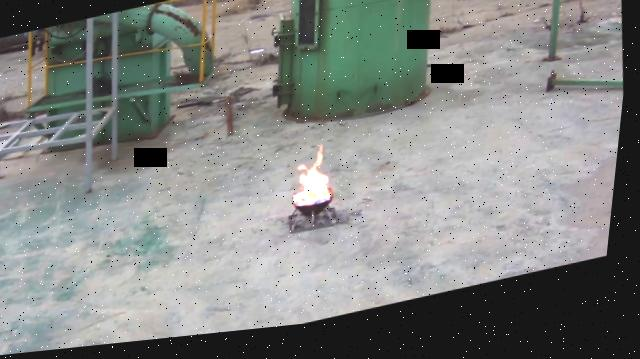fire: (296, 149, 339, 209)
